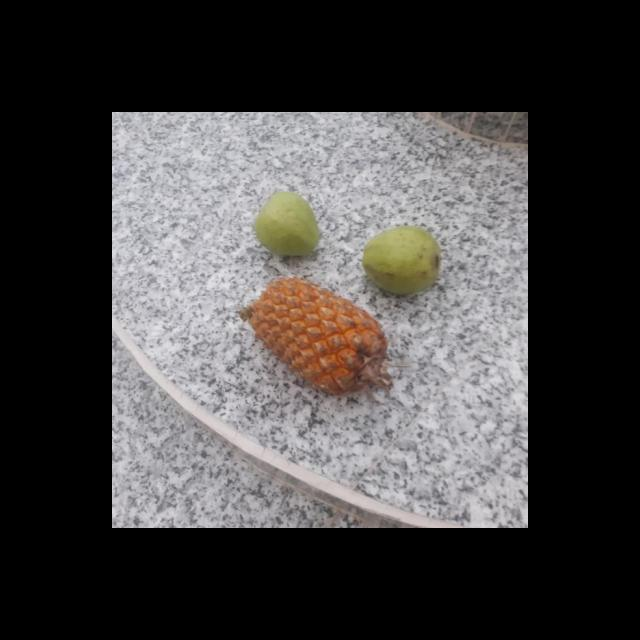guava: (358, 227, 441, 294), (252, 190, 322, 258)
pineapple: (238, 275, 392, 396)
